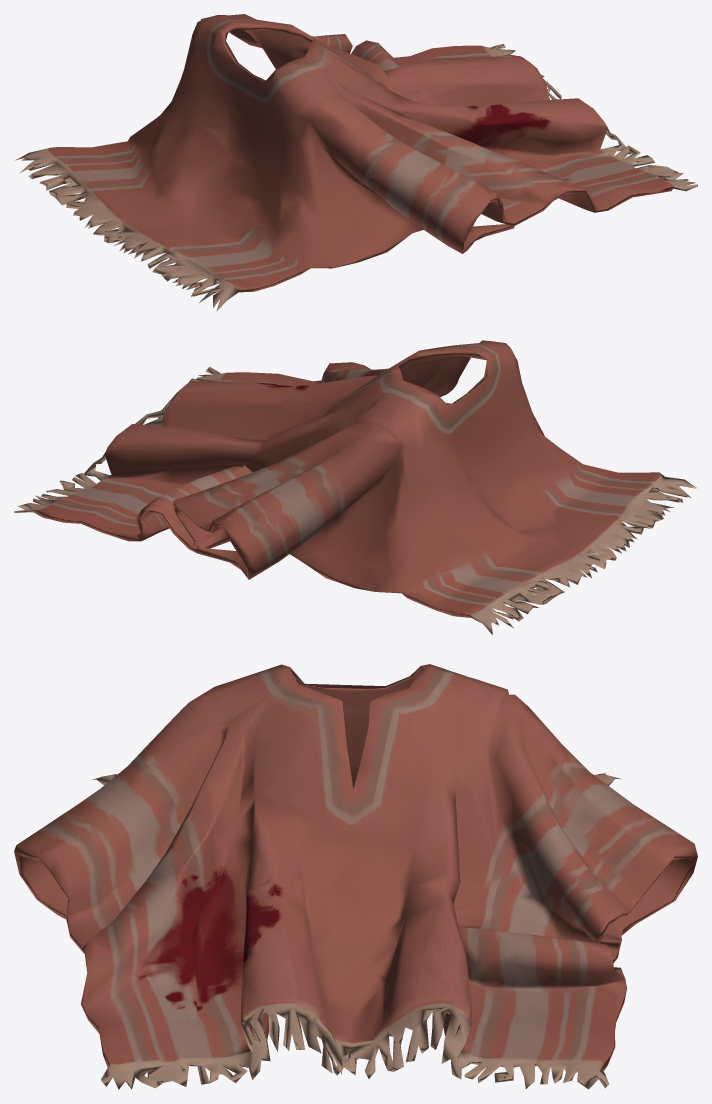
Rendered from 5c49504e-e19c-468d-ac43-99f44595fb70_model_url.glb.
3 views of the same model, one above another, from view 1: azimuth 30°, elevation 25°; view 2: azimuth 150°, elevation 25°; view 3: azimuth 270°, elevation 25° (orthographic). The views are drawn at different scales.
Visible parts, largest first — view 1: tripo_node_5c49504e-e19c-468d-ac43-99f44595fb70; view 2: tripo_node_5c49504e-e19c-468d-ac43-99f44595fb70; view 3: tripo_node_5c49504e-e19c-468d-ac43-99f44595fb70.
Boxes of the visible parts, x1=… form: tripo_node_5c49504e-e19c-468d-ac43-99f44595fb70: x1=15, y1=14, x2=697, y2=311; tripo_node_5c49504e-e19c-468d-ac43-99f44595fb70: x1=14, y1=340, x2=697, y2=635; tripo_node_5c49504e-e19c-468d-ac43-99f44595fb70: x1=14, y1=664, x2=697, y2=1089.
Size of the model in its own units: 1 by 0.2987 by 0.8988.
1 material, 1 textured.
